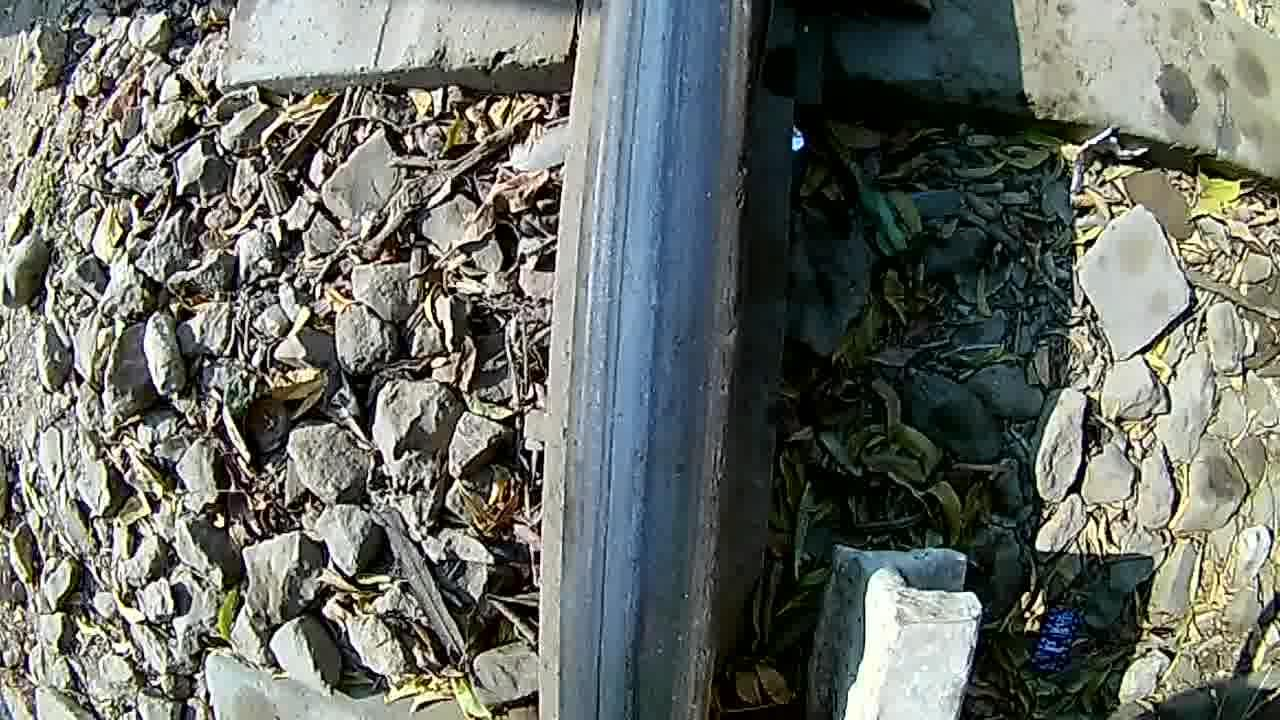clip_missing: (542, 3, 764, 720)
